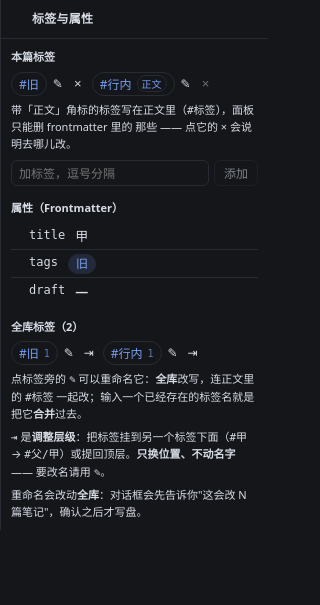
标签面板：加标签 › 一次可以加多个（逗号分隔），开头的 `#` 与多余空白都被清掉
Expected: the button "#旧" is shown, [11, 72, 47, 96]
Type " #父/子 , 带 空格 " into the field named "添加标签" at {"x": 110, "y": 173}, box [11, 160, 209, 186]
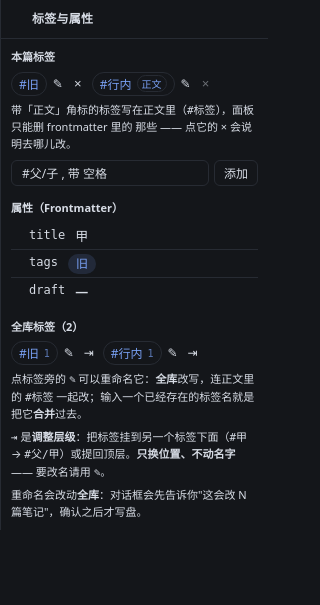
Click the button "添加" at {"x": 236, "y": 173}, box [214, 160, 258, 186]
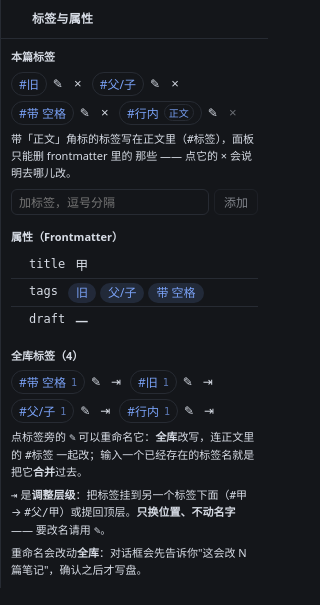
Expected: the button "#带 空格" is shown, [11, 100, 74, 124]
